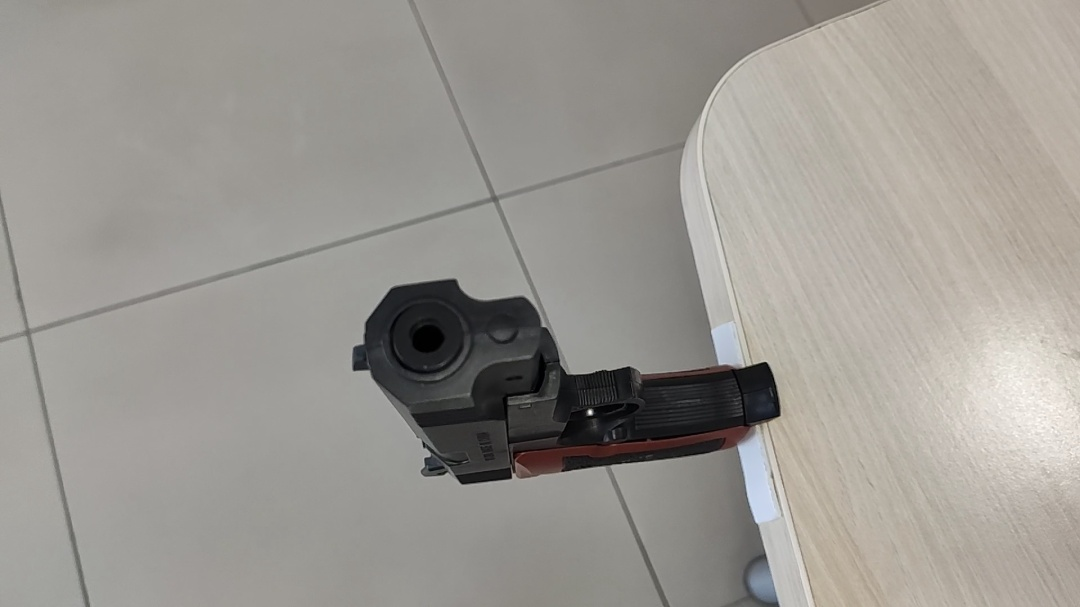gun: (369, 253, 418, 282)
